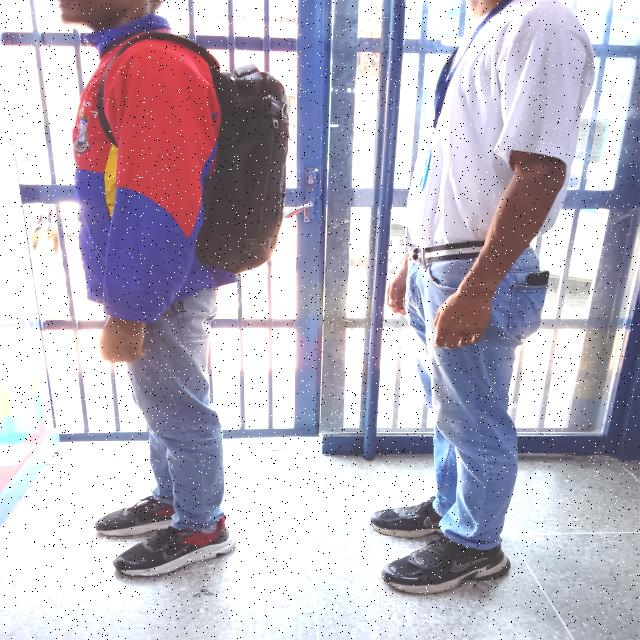carnet: (418, 150, 432, 192)
chaqueta_unefa: (72, 14, 240, 323)
